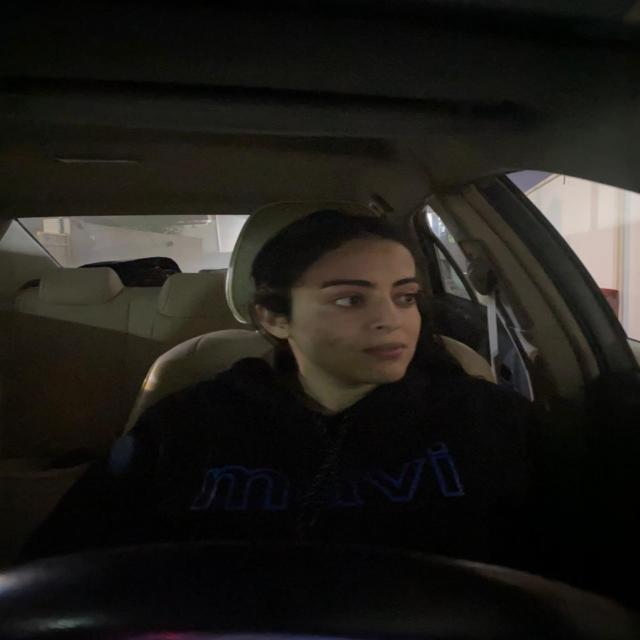person: (247, 195, 441, 400)
